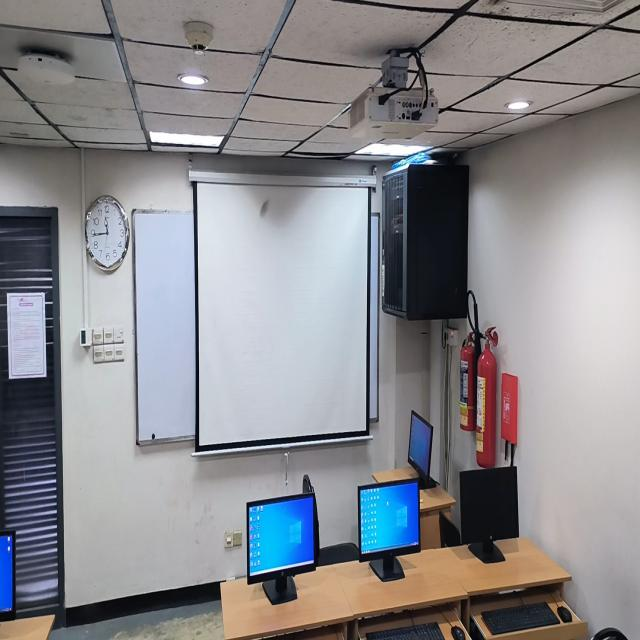Chair: (317, 543, 359, 567), (302, 474, 314, 493)
Fire Extinguisher: (475, 326, 498, 467), (460, 338, 475, 431)
Keyboard: (481, 603, 559, 635), (366, 622, 444, 639)
Light: (150, 132, 224, 147), (355, 143, 431, 157), (178, 73, 208, 85), (507, 100, 530, 111)
Monitor: (247, 485, 319, 603), (358, 482, 419, 581), (460, 467, 519, 563), (409, 411, 433, 475), (0, 530, 16, 620)
Mouse: (557, 606, 572, 622), (451, 626, 465, 639)
Projector: (348, 87, 438, 140)
